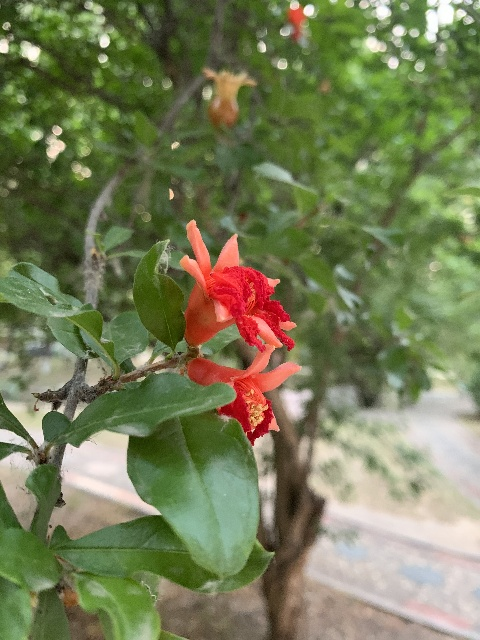early-fruit: (204, 69, 256, 129)
flower: (180, 219, 297, 352), (184, 341, 300, 444)
